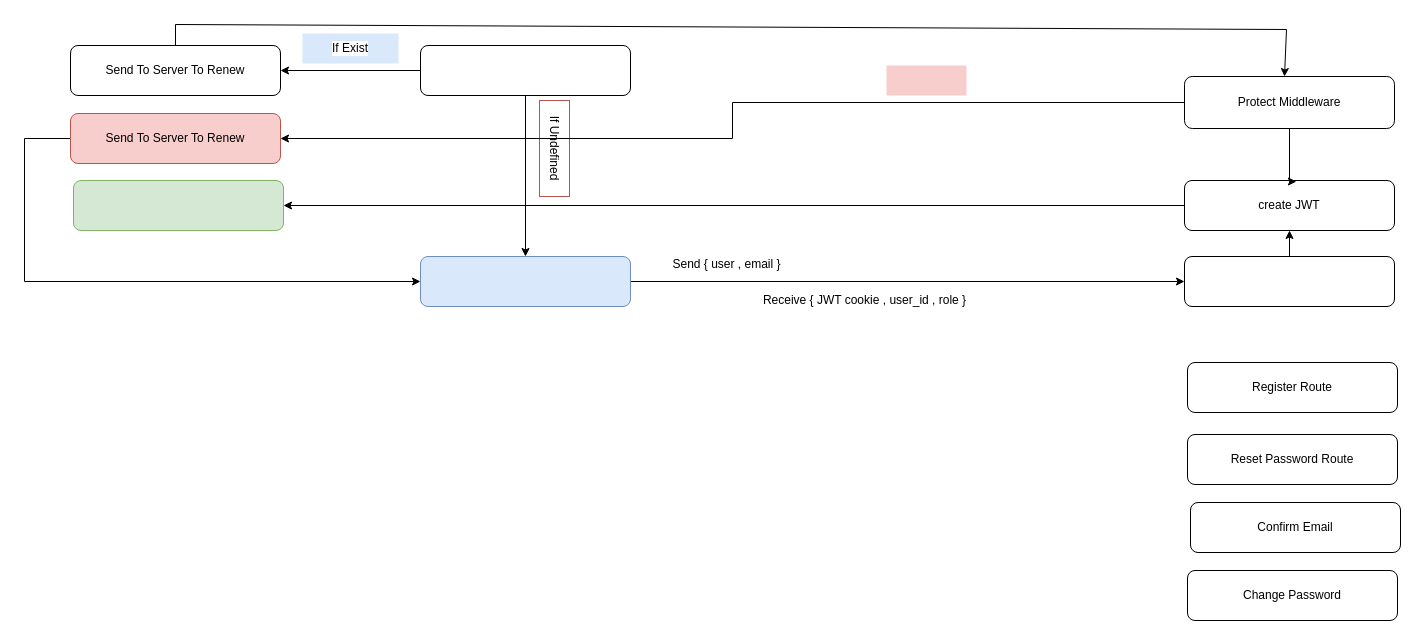
This 1418x638 diagram has some shape labels left out. The box of each missing label's shape, as (x1, y1, x2, y2) in pixels:
If JWT Error: (886, 65, 966, 95)
Login Component: (420, 256, 630, 306)
Login Route: (1184, 256, 1394, 306)
Parse and set state { user_id , role}: (72, 180, 284, 230)
try to Load jwt from cookie: (420, 44, 630, 96)
